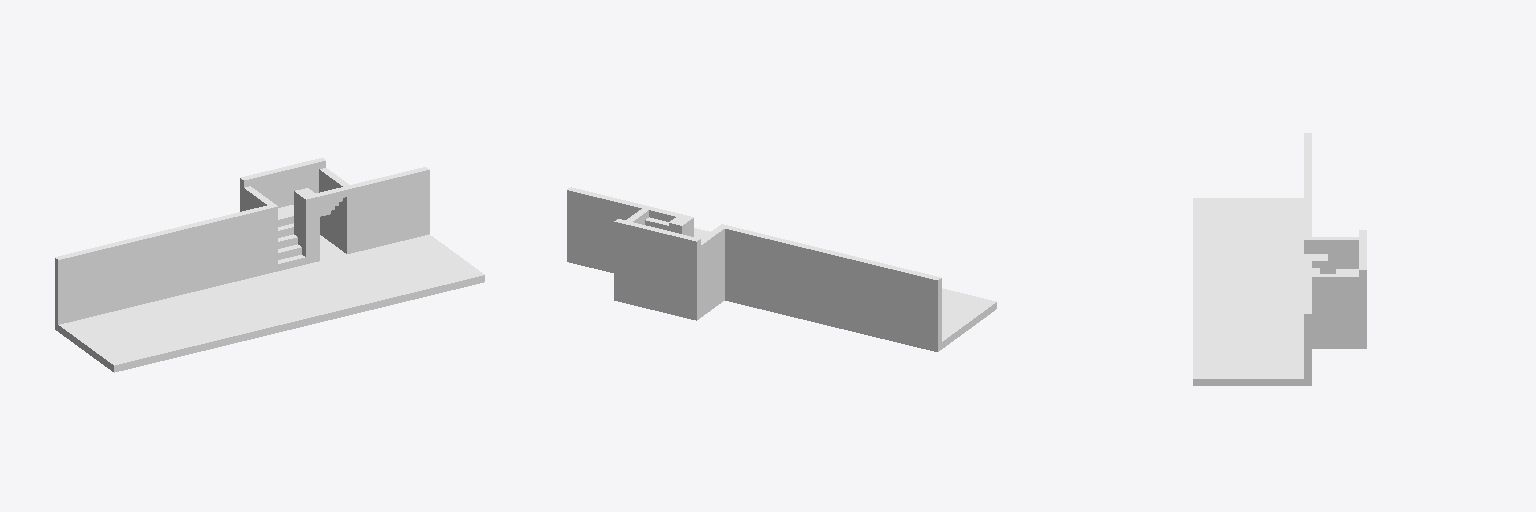
The model's file is Pasillo4.obj.
3 renders of one model, left to right at view 1: azimuth 30°, elevation 25°; view 2: azimuth 150°, elevation 25°; view 3: azimuth 270°, elevation 25°, orthographic.
Visible parts, largest first — view 1: object 1; view 2: object 1; view 3: object 1.
Boxes of the visible parts, box(x1,y1,x2,y2) form: object 1: box(55, 158, 484, 372); object 1: box(567, 187, 996, 351); object 1: box(1193, 133, 1366, 385).
Size of the model in its own units: 5.4 by 1.1 by 2.2.